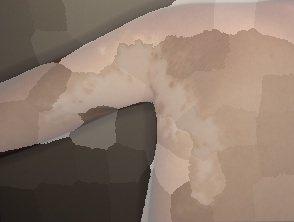vitiligo: (45, 9, 275, 213)
